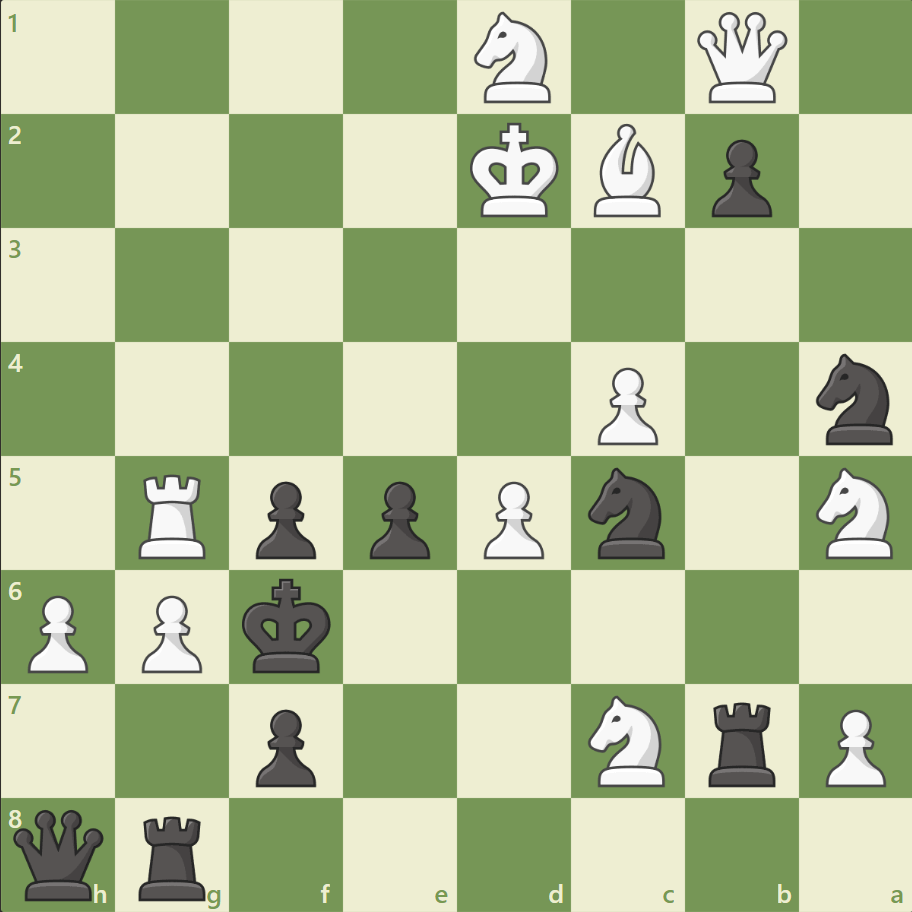B: (585, 120, 669, 222)
K: (465, 117, 565, 225)
N: (579, 688, 676, 791), (806, 461, 903, 564), (465, 7, 562, 110)
P: (133, 586, 208, 677), (20, 586, 95, 677), (474, 473, 549, 564), (815, 700, 889, 791), (588, 359, 662, 450)
Q: (691, 9, 790, 108)
R: (133, 466, 215, 563)
k: (238, 571, 338, 679)
n: (579, 461, 676, 564), (806, 348, 903, 450)
p: (247, 700, 322, 791), (247, 473, 322, 564), (701, 132, 776, 223), (361, 473, 435, 564)
q: (10, 804, 109, 903)
r: (700, 693, 783, 790), (133, 806, 215, 904)
